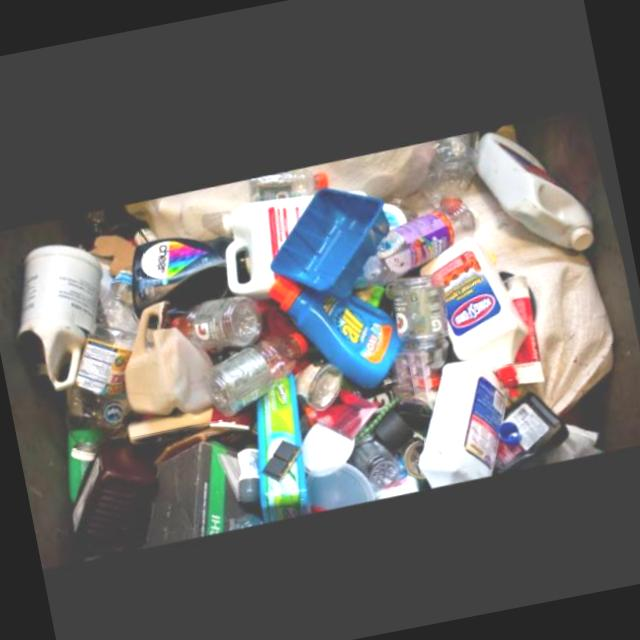chai_nhua_pet: (350, 192, 480, 289), (69, 260, 140, 418), (204, 325, 311, 410), (394, 269, 450, 384), (174, 290, 263, 340), (255, 164, 333, 195)
hop_nhua: (423, 235, 529, 391), (271, 266, 404, 384), (483, 130, 598, 250), (273, 183, 394, 291), (22, 237, 107, 381), (419, 356, 511, 484), (126, 295, 218, 405), (226, 188, 318, 293), (135, 228, 236, 318), (494, 390, 572, 472), (397, 348, 435, 404)
